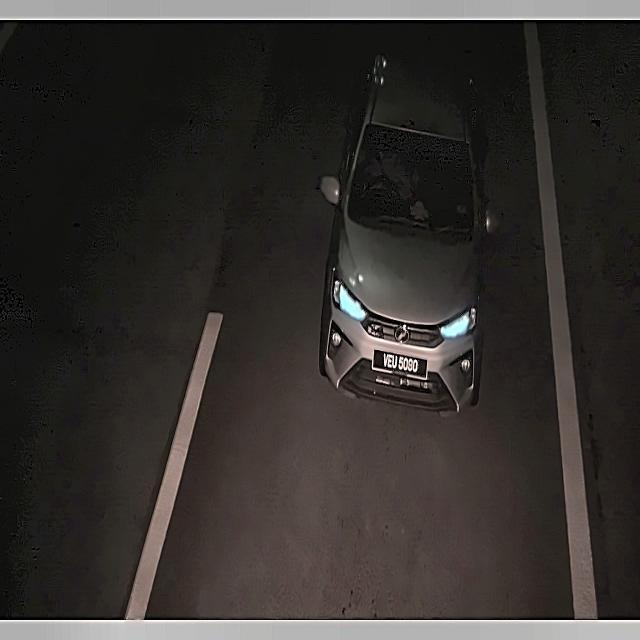car: (369, 344, 434, 385)
